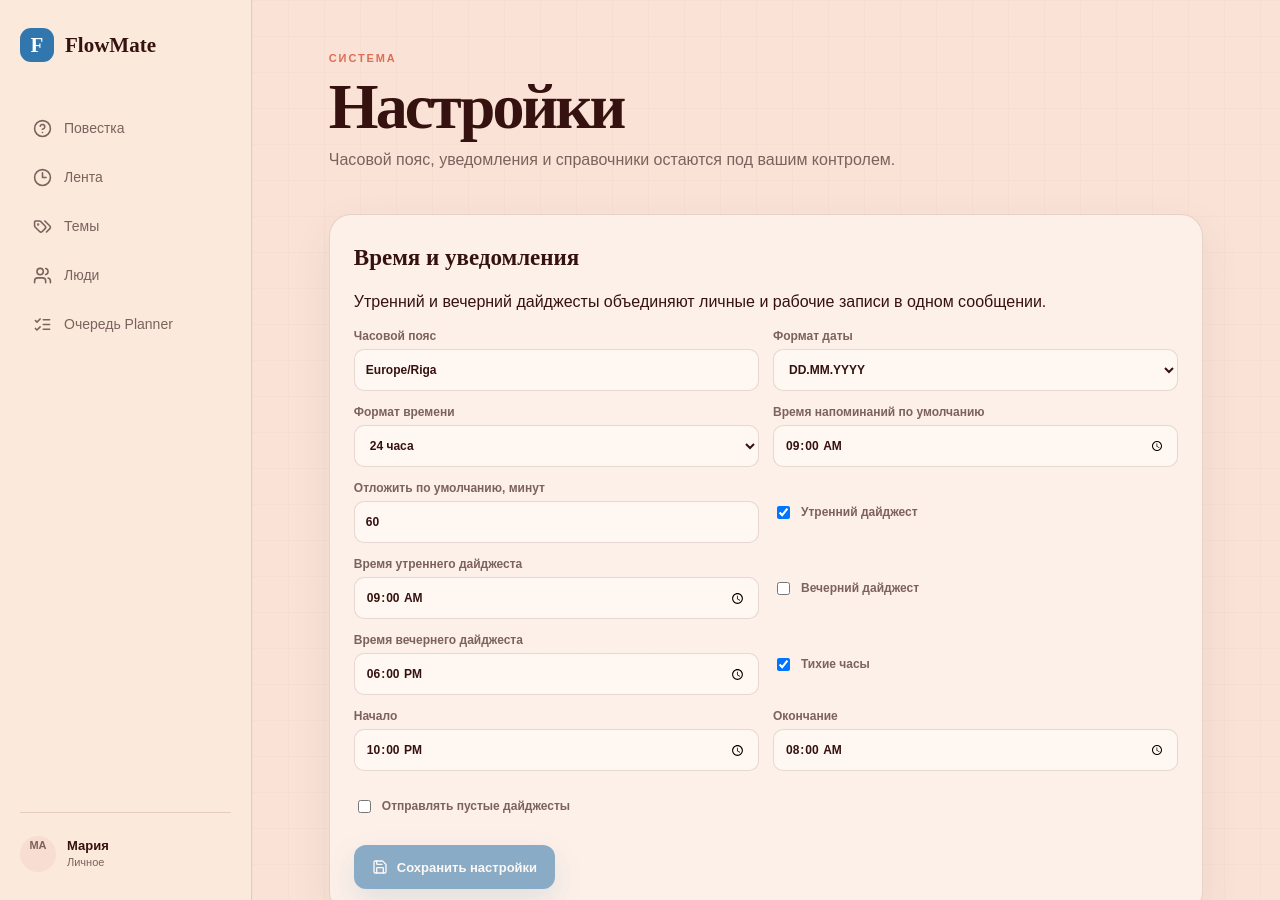
Test: Settings › shows provider booleans and saves validated settings with a dirty warning
This screenshot has width=1280, height=900.
Expected: the time field labelled "Время напоминаний по умолчанию" holds "09:00", [773,425,1178,467]
Type "America/New_York" into the field labelled "Часовой пояс" at (556, 370), box [354,349,759,391]
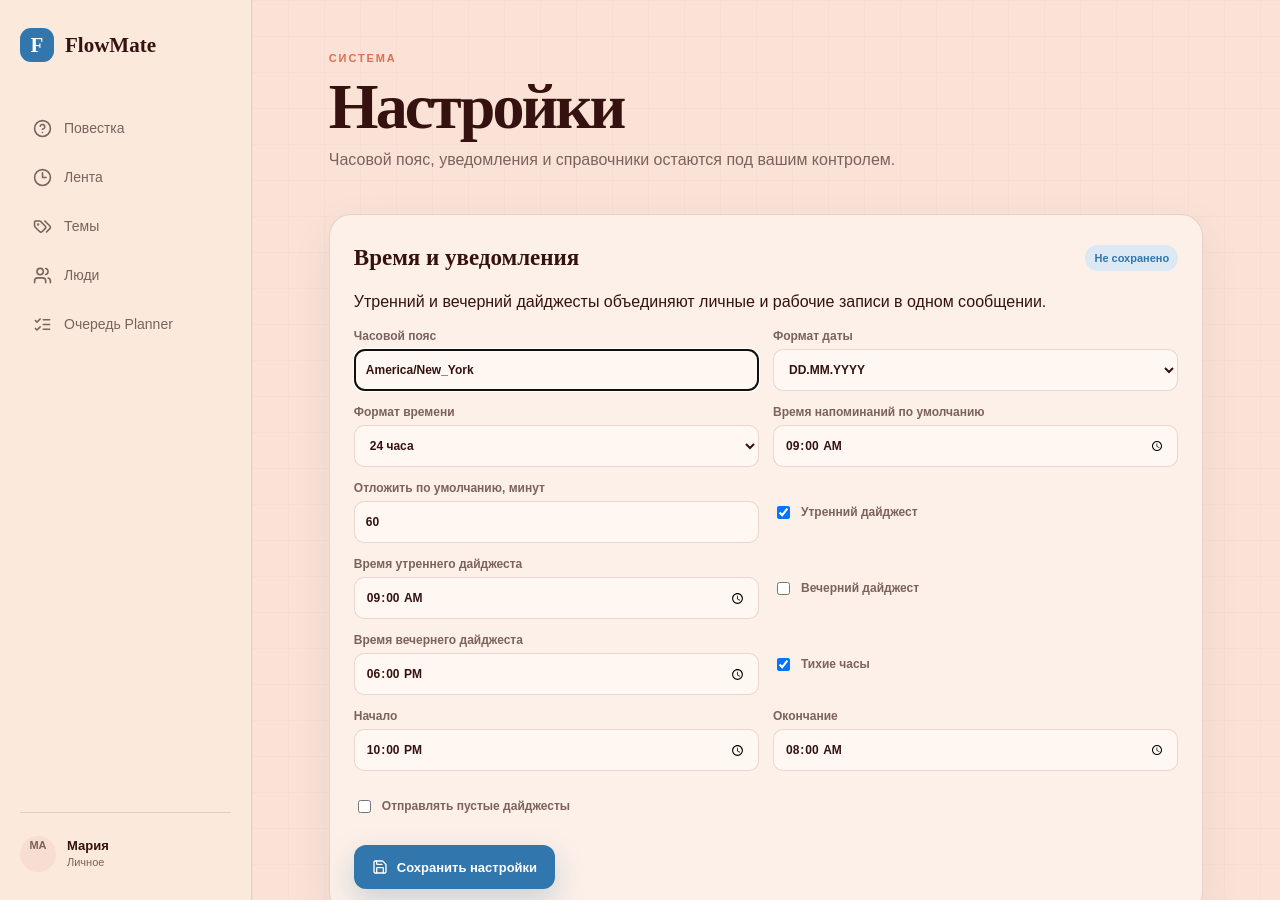
Now the text "Не сохранено" is shown, box [1085,245,1178,271]
Click the button "Сохранить настройки" at (454, 867), box [354,845,555,889]
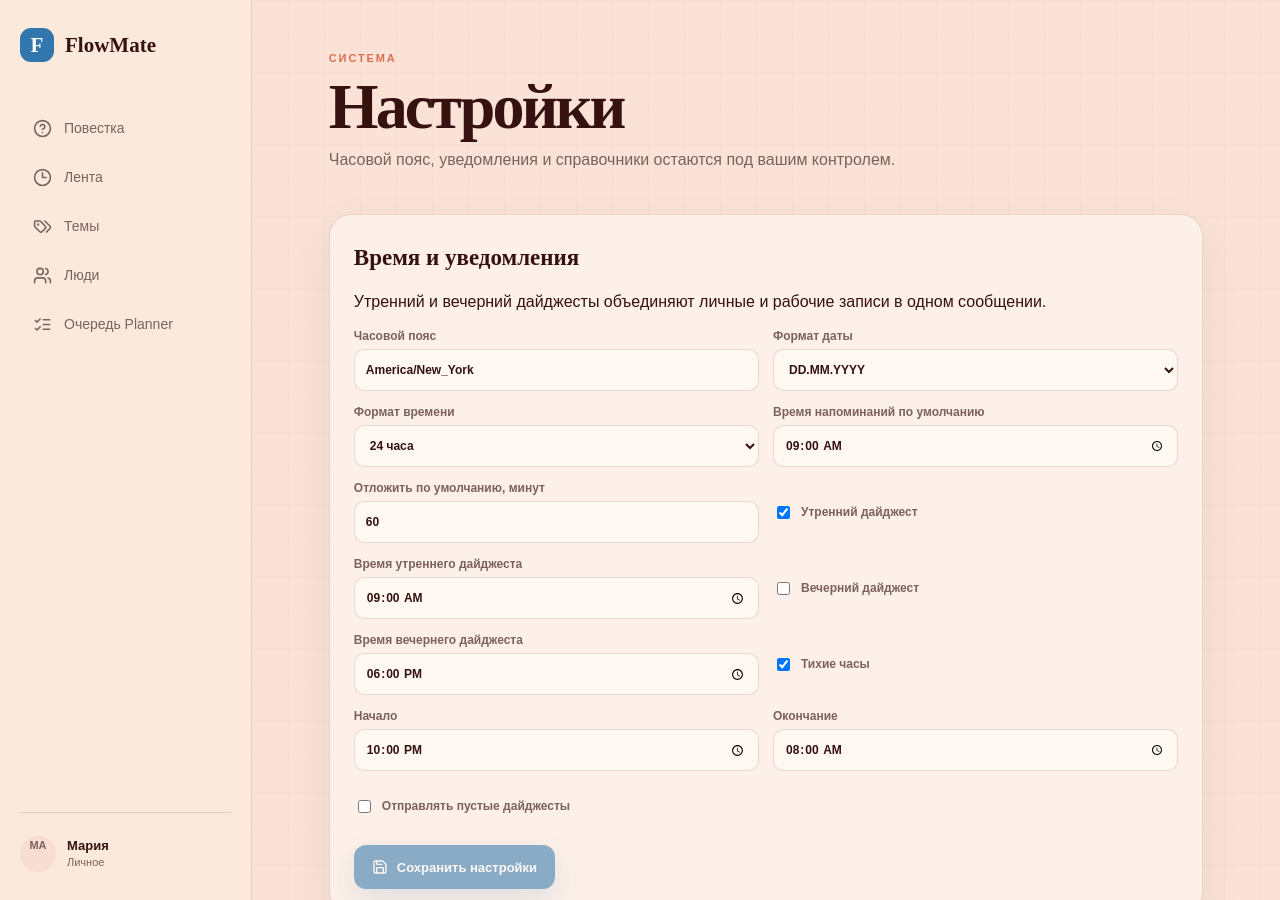
Now the text "Не сохранено" is gone
